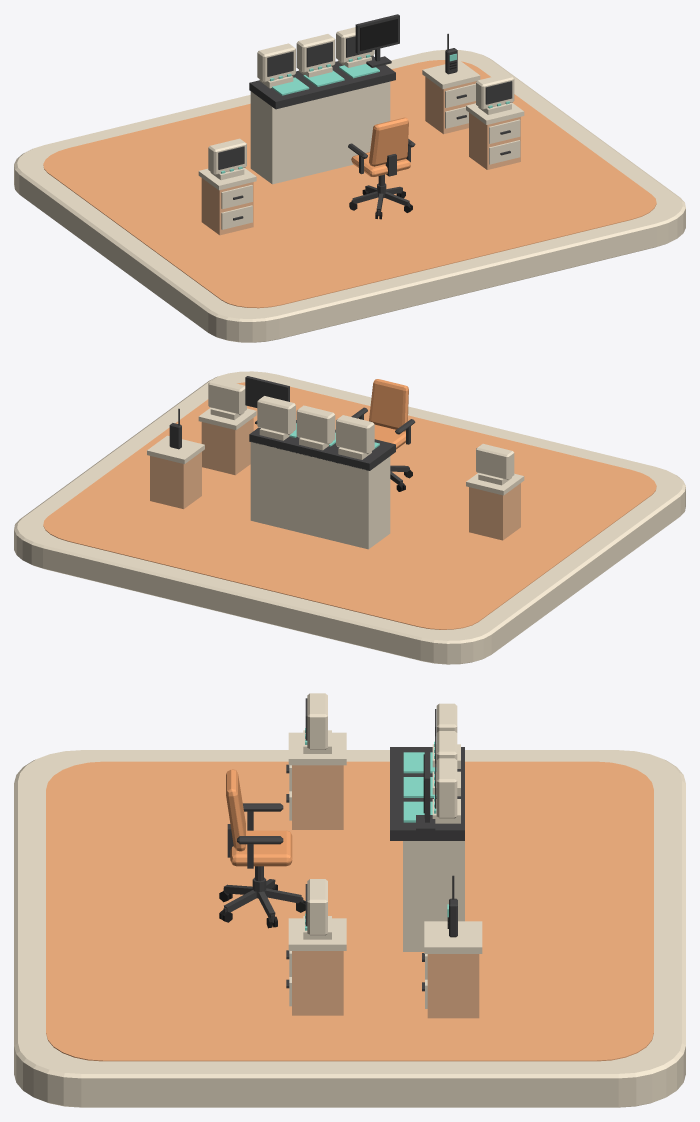
File: room.fbx
The picture shows the model from 3 angles, top to bottom: view 1: azimuth 30°, elevation 25°; view 2: azimuth 150°, elevation 25°; view 3: azimuth 270°, elevation 25°; orthographic projection. The views are drawn at different scales.
Parts seen in each view (by area): view 1: COM-02 Floor Surface, COM-01 Rounded Base Direct, Console, COM-04_Chair_blender_direct, Panel, Frame, Body, Body.001, Body.002, Top.002, Housing.001, Housing (+13 smaller); view 2: COM-02 Floor Surface, COM-01 Rounded Base Direct, Console, COM-04_Chair_blender_direct, Body, Body.002, Body.001, Panel, Housing.001, Housing, Housing.002, Housing.003 (+5 smaller); view 3: COM-02 Floor Surface, COM-01 Rounded Base Direct, COM-04_Chair_blender_direct, Console, Body.002, Body, Body.001, Panel, Top.002, Top, Top.001, Housing.002 (+3 smaller).
Boxes of the visible parts, left/top/right/bottom form: COM-02 Floor Surface: left=43, top=60, right=656, bottom=308; COM-01 Rounded Base Direct: left=14, top=49, right=685, bottom=342; Console: left=250, top=81, right=390, bottom=184; COM-04_Chair_blender_direct: left=348, top=117, right=415, bottom=219; Panel: left=249, top=56, right=395, bottom=109; Frame: left=355, top=14, right=399, bottom=67; Body: left=201, top=178, right=253, bottom=235; Body.001: left=469, top=112, right=520, bottom=169; Body.002: left=425, top=77, right=476, bottom=134; Top.002: left=422, top=60, right=480, bottom=88; Housing.001: left=296, top=34, right=335, bottom=72; Housing: left=257, top=43, right=295, bottom=82; COM-02 Floor Surface: left=43, top=382, right=656, bottom=629; COM-01 Rounded Base Direct: left=14, top=371, right=685, bottom=664; Console: left=250, top=442, right=390, bottom=549; COM-04_Chair_blender_direct: left=351, top=379, right=415, bottom=491; Body: left=469, top=483, right=520, bottom=540; Body.002: left=150, top=452, right=201, bottom=509; Body.001: left=201, top=418, right=253, bottom=475; Panel: left=249, top=420, right=395, bottom=470; Housing.001: left=296, top=405, right=335, bottom=444; Housing: left=336, top=415, right=374, bottom=454; Housing.002: left=257, top=396, right=295, bottom=434; Housing.003: left=476, top=443, right=514, bottom=479; COM-02 Floor Surface: left=46, top=761, right=653, bottom=1061; COM-01 Rounded Base Direct: left=14, top=750, right=685, bottom=1107; COM-04_Chair_blender_direct: left=219, top=769, right=305, bottom=928; Console: left=403, top=841, right=464, bottom=951; Body.002: left=427, top=954, right=479, bottom=1018; Body: left=292, top=765, right=343, bottom=829; Body.001: left=292, top=951, right=343, bottom=1015; Panel: left=390, top=747, right=464, bottom=840; Top.002: left=424, top=921, right=482, bottom=953; Top: left=288, top=732, right=346, bottom=765; Top.001: left=288, top=918, right=346, bottom=950; Housing.002: left=436, top=758, right=457, bottom=818.
Size of the model in its own units: 600 by 188 by 520.
